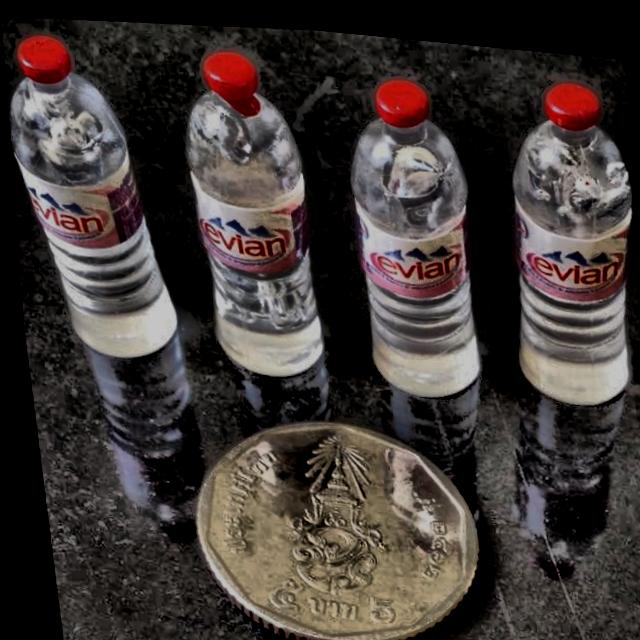Bottles: (317, 38, 513, 420), (1, 14, 196, 395), (153, 24, 352, 395), (462, 42, 640, 424)
